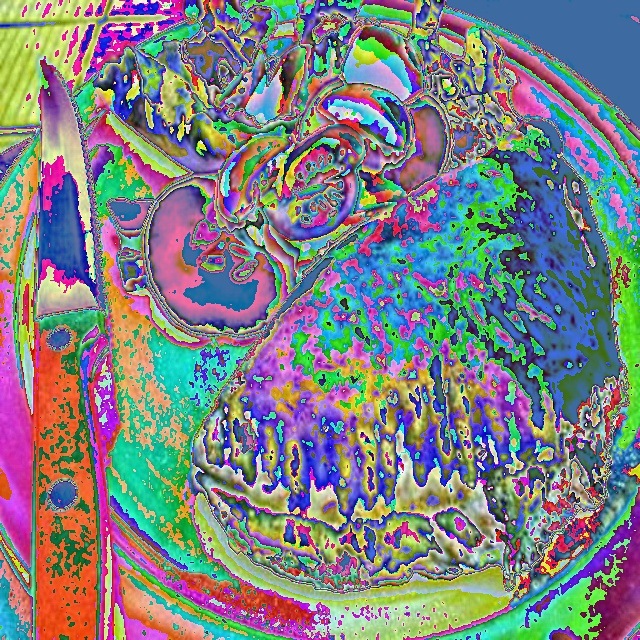background: (95, 0, 629, 592)
